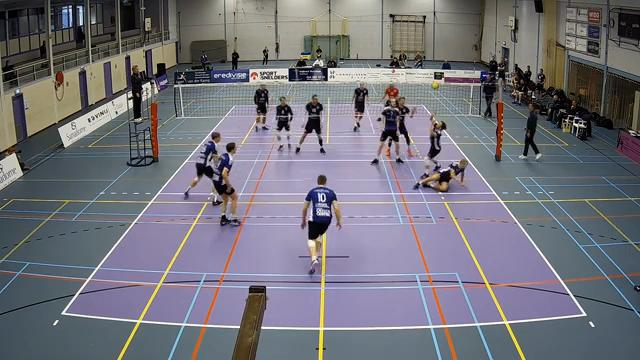Player: (301, 175, 341, 273), (184, 132, 220, 198), (213, 142, 240, 225), (371, 99, 402, 164), (295, 95, 325, 153), (414, 159, 467, 191), (397, 97, 414, 156), (276, 97, 292, 150), (352, 82, 368, 131), (254, 84, 268, 131), (381, 83, 398, 105)
Set: (418, 109, 447, 179)
ball: (430, 81, 440, 91)
